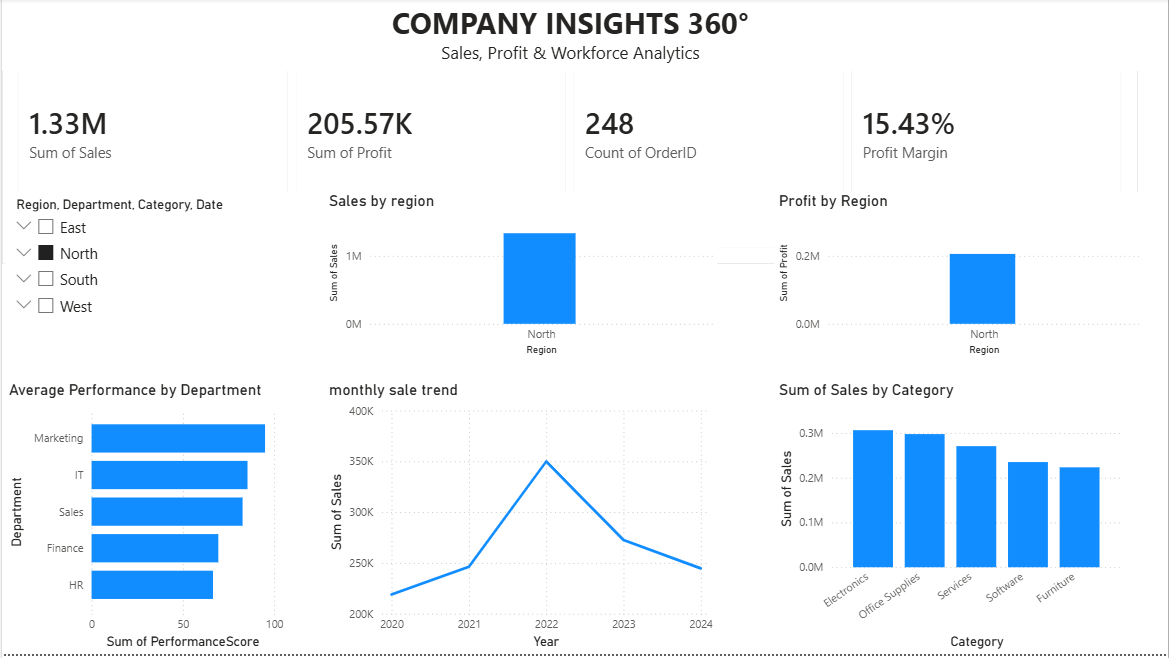

Layout of this report page (visuals, bound fields, positions):
{"tool":"powerbi","page":{"name":"Page 1","canvas":[1280,720],"ordinal":0},"visuals":[{"type":"cardVisual","fields":{"Data":["Sum(sales.Sales)","Sum(sales.Profit)","Count(sales.OrderID)","sales.Profit Margin"]},"box":[0,0,1248,292],"z":0},{"type":"clusteredColumnChart","title":"Sales by region","fields":{"Category":["sales.Region"],"Y":["Sum(sales.Sales)"]},"box":[353.8,212.5,431.2,185],"z":1000},{"type":"clusteredColumnChart","fields":{"Category":["sales.Category"],"Y":["Sum(sales.Sales)"]},"box":[847.5,420,386.2,300],"z":2000},{"type":"clusteredColumnChart","title":"Profit by Region","fields":{"Category":["sales.Region"],"Y":["Sum(sales.Profit)"]},"box":[847.5,212.5,406.2,185],"z":3000},{"type":"lineChart","title":"monthly sale trend","fields":{"Category":["sales.Date.Variation.Date Hierarchy.Year","sales.Date.Variation.Date Hierarchy.Quarter","sales.Date.Variation.Date Hierarchy.Month","sales.Date.Variation.Date Hierarchy.Day"],"Y":["Sum(sales.Sales)"]},"box":[353.8,420,431.2,300],"z":4000},{"type":"clusteredBarChart","title":"Average Performance by Department","fields":{"Category":["employees.Department"],"Y":["Sum(employees.PerformanceScore)"]},"box":[2.5,420,311.2,300],"z":5000},{"type":"slicer","title":"Discount vs Profit","fields":{"Values":["sales.Region","employees.Department","sales.Category","sales.Date"]},"box":[2.5,212.5,351.2,207.5],"z":6000},{"type":"textbox","box":[0,0,1248,80],"z":7000}]}

Visuals, with their boxes in screenshot pixels (x1, y1, x2, y2), scaled from the page's 1280x720 canvas onto the 1169x658 screenshot:
cardVisual - Sum(sales.Sales) x Sum(sales.Profit): [0, 0, 1140, 267]
"Sales by region" clusteredColumnChart: [323, 194, 717, 363]
clusteredColumnChart - sales.Category x Sum(sales.Sales): [774, 384, 1127, 657]
"Profit by Region" clusteredColumnChart: [774, 194, 1145, 363]
"monthly sale trend" lineChart: [323, 384, 717, 657]
"Average Performance by Department" clusteredBarChart: [2, 384, 286, 657]
"Discount vs Profit" slicer: [2, 194, 323, 384]
textbox: [0, 0, 1140, 73]
